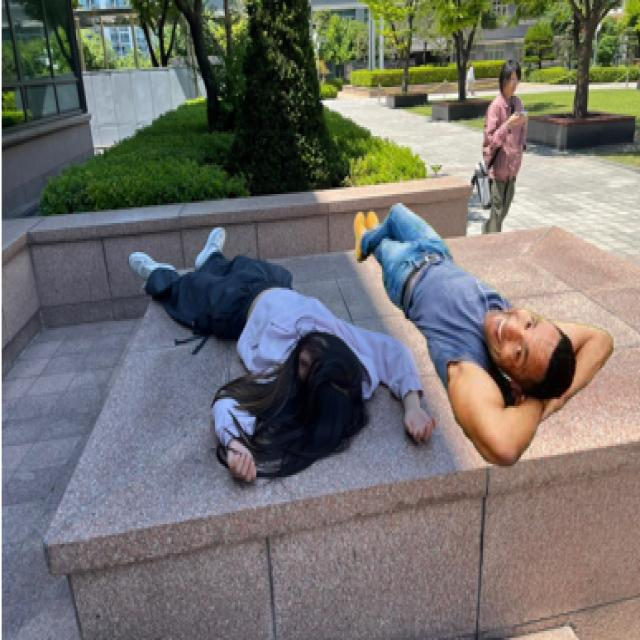layPeople: (129, 227, 435, 479), (356, 205, 614, 466)
